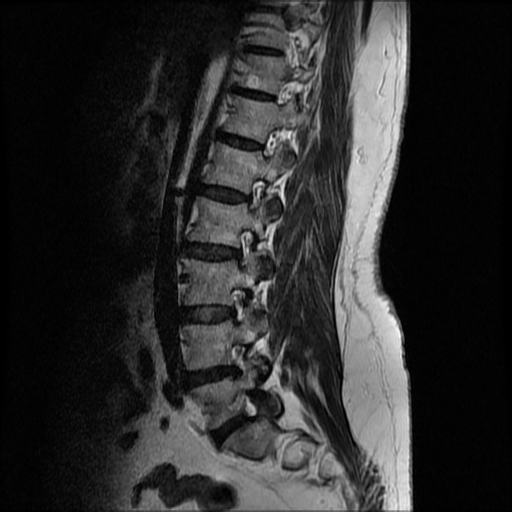RFS0: (226, 222, 264, 275), (219, 281, 260, 329), (218, 334, 257, 382), (237, 170, 275, 218)
